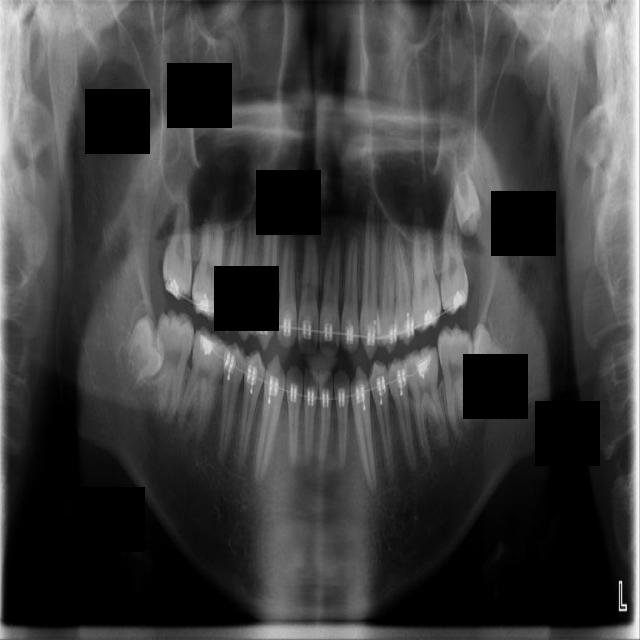73: (600, 588, 605, 596)
BioHorizons Implant: (440, 186, 469, 316)
BioLife Implant: (447, 150, 485, 240)
Biomet 3i Implant: (459, 322, 519, 396)
Blue Sky Bio Implant: (437, 323, 474, 442)
Caries: (162, 182, 192, 300)
Implant: (150, 308, 196, 426)
Keystone Dental Implant: (101, 312, 179, 390)
